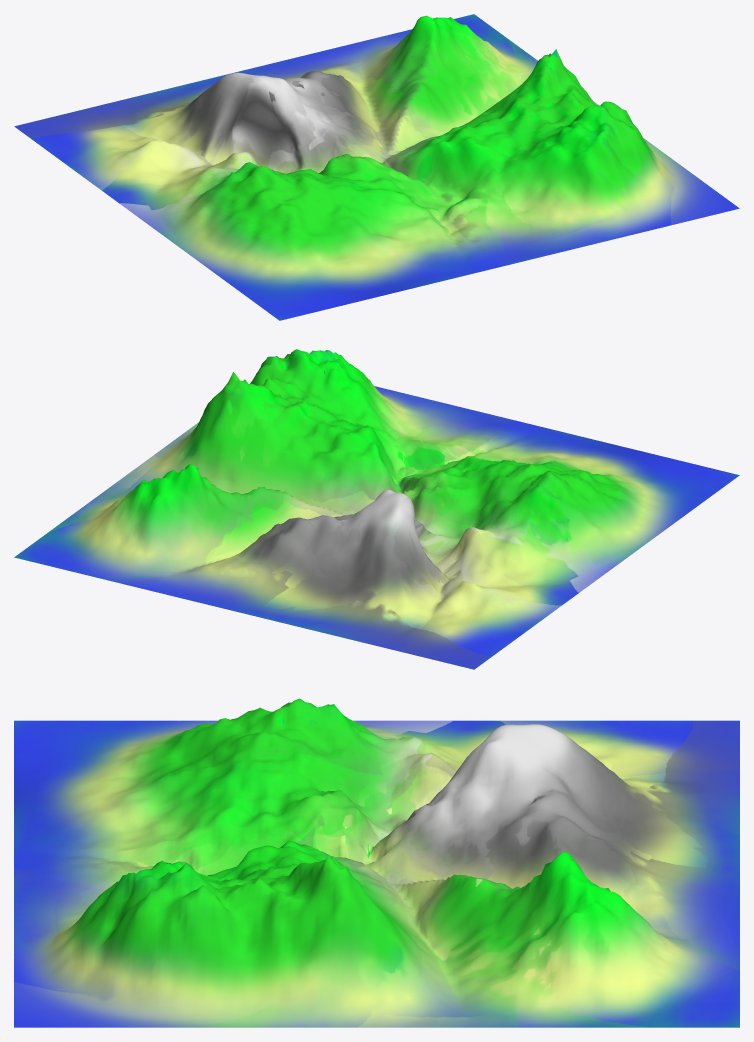
Rendered from terrain4.glb.
3 views of the same model, one above another, from view 1: azimuth 30°, elevation 25°; view 2: azimuth 150°, elevation 25°; view 3: azimuth 270°, elevation 25° (orthographic). The views are drawn at different scales.
Visible parts, largest first — view 1: Landscape; view 2: Landscape; view 3: Landscape.
Boxes of the visible parts, x1,y1,x2,y2 form: Landscape: [14, 14, 739, 320]; Landscape: [14, 349, 739, 669]; Landscape: [14, 698, 739, 1027].
Size of the model in its own units: 100 by 20.78 by 100.
1 material, 1 textured.
